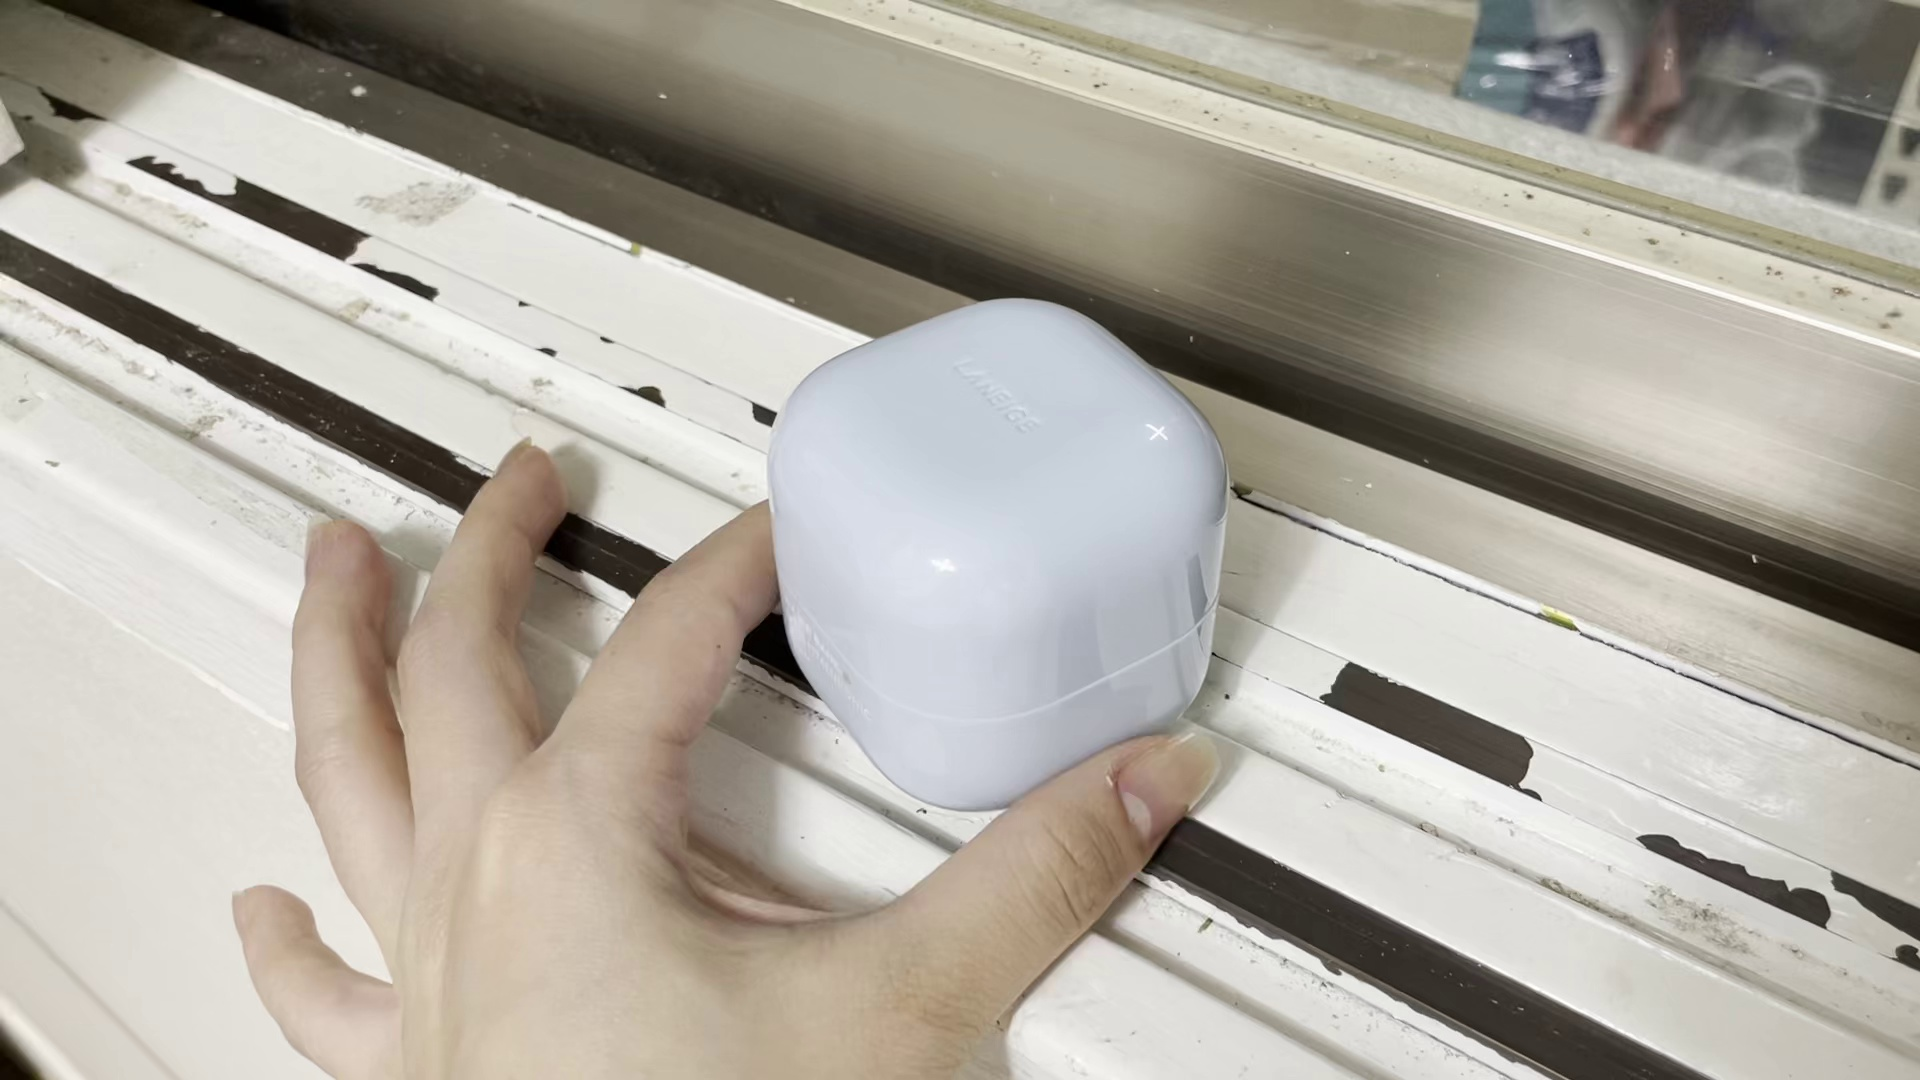cream: (773, 295, 1232, 800)
